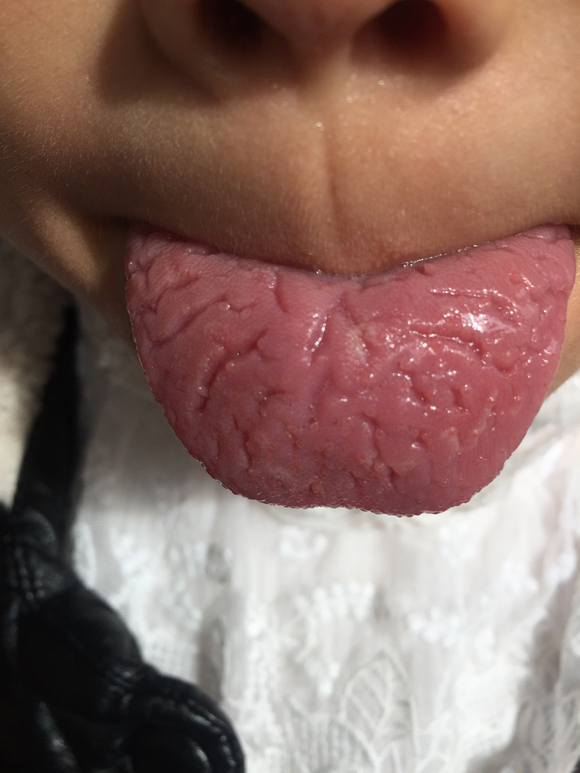hongshe: (123, 214, 577, 518)
liewenshe: (133, 238, 535, 492)
